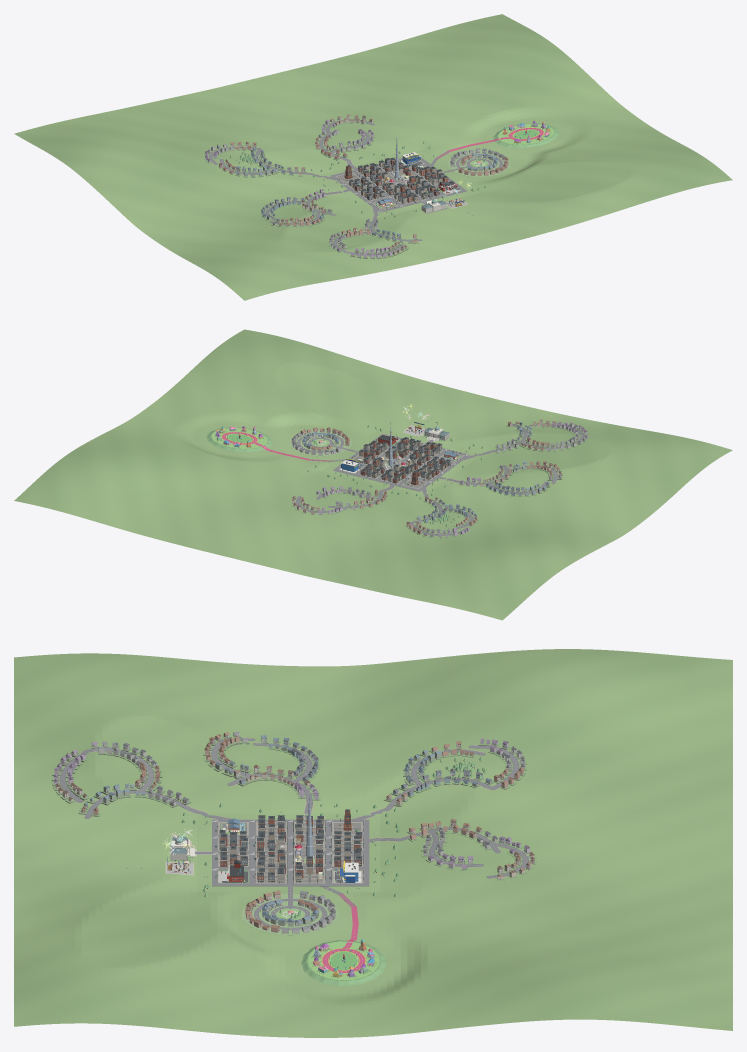
File: town.glb
3 renders of one model, top to bottom at view 1: azimuth 30°, elevation 25°; view 2: azimuth 150°, elevation 25°; view 3: azimuth 270°, elevation 25°, orthographic. The views are drawn at different scales.
Visible parts, largest first — view 1: regional_walkable_terrain, hillside_pads, kaleidoscope_crest_street.002, suburban_junction_surfaces, pad.003; view 2: regional_walkable_terrain, hillside_pads, kaleidoscope_crest_street.002, suburban_junction_surfaces, pad.003; view 3: regional_walkable_terrain, hillside_pads, suburban_junction_surfaces, kaleidoscope_crest_street.002, hillside_foundations, pad.003, city_sidewalks, city_block_hardscape, suburban_junction_shoulders, city_furnishing_bands, city_curbs.
Boxes of the visible parts, x1,y1,x2,y2 form: regional_walkable_terrain: (14,14,732,300); hillside_pads: (203,117,418,258); kaleidoscope_crest_street.002: (431,123,559,165); suburban_junction_surfaces: (209,119,421,256); pad.003: (448,150,510,176); regional_walkable_terrain: (14,329,732,620); hillside_pads: (290,422,589,538); kaleidoscope_crest_street.002: (206,427,345,461); suburban_junction_surfaces: (296,424,585,535); pad.003: (289,429,351,456); regional_walkable_terrain: (14,649,732,1037); hillside_pads: (51,734,536,880); suburban_junction_surfaces: (60,738,528,878); kaleidoscope_crest_street.002: (301,886,386,986); hillside_foundations: (51,737,533,870); pad.003: (241,893,339,935); city_sidewalks: (217,822,363,883); city_block_hardscape: (220,823,361,882); suburban_junction_shoulders: (59,738,528,878); city_furnishing_bands: (217,821,363,883); city_curbs: (217,822,364,883).
Size of what is drawn, in the model's own units: 1040 by 93.32 by 850.
